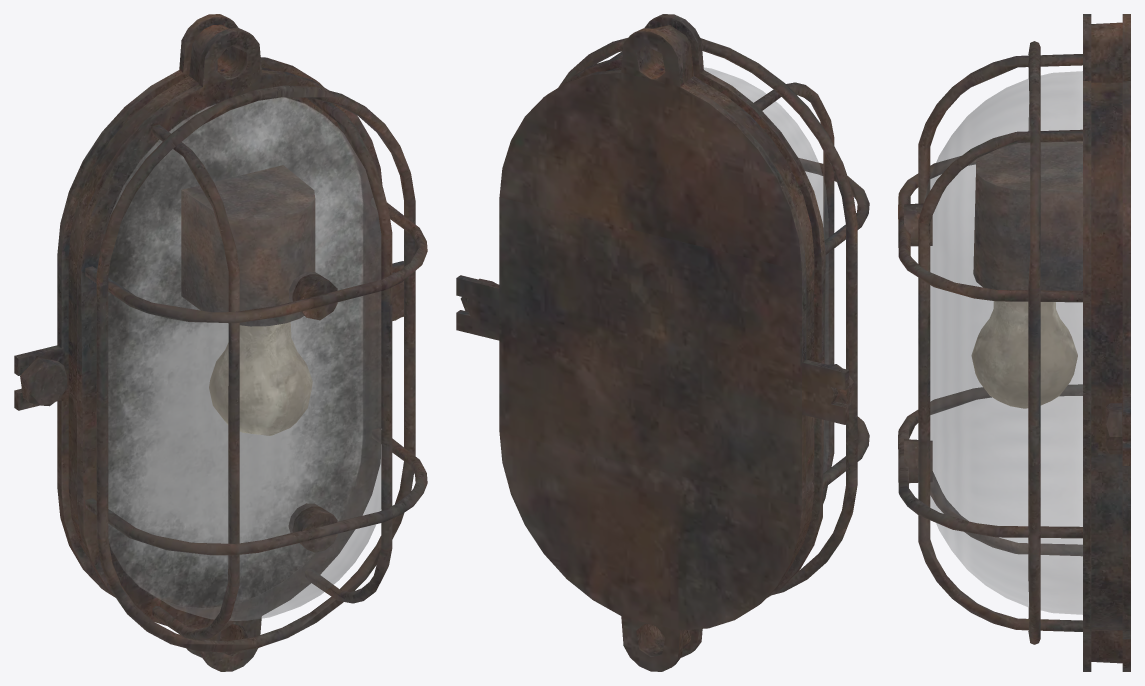
Rendered from industrial_wall_lamp.glb.
The picture shows the model from 3 angles, left to right: view 1: azimuth 30°, elevation 25°; view 2: azimuth 150°, elevation 25°; view 3: azimuth 270°, elevation 25°; orthographic projection.
Parts seen in each view (by area): view 1: industrial_wall_lamp; view 2: industrial_wall_lamp; view 3: industrial_wall_lamp.
Boxes of the visible parts, <box> form: industrial_wall_lamp: <box>14,14,427,671</box>; industrial_wall_lamp: <box>456,14,869,671</box>; industrial_wall_lamp: <box>898,14,1130,671</box>.
Size of the model in its own units: 0.2734 by 0.4299 by 0.1393.
2 materials, 2 textured.
